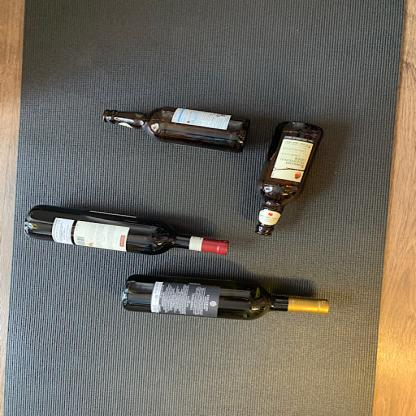trash: (21, 204, 234, 260), (120, 272, 334, 322), (95, 99, 248, 158), (246, 118, 321, 235)
